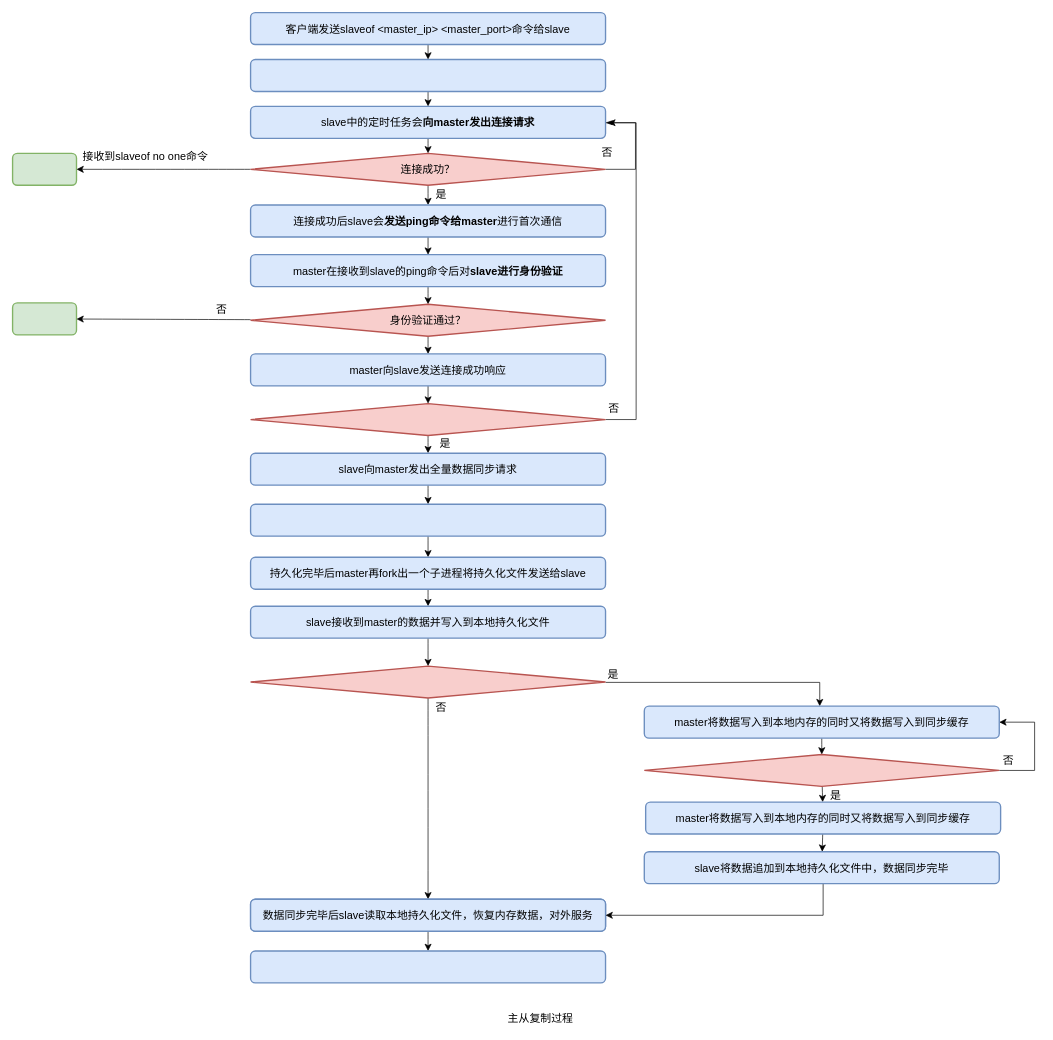
This 1053x1040 diagram has some shape labels left out. Each missing label, with the box of its shape:
master在接收到数据同步请求后fork出一个子进程进行数据持久化: (250, 503, 606, 537)
master的持久化文件数据发送完毕？: (643, 753, 1000, 787)
slave接收到slaveof命令后 将master地址保存到本地: (250, 58, 606, 92)
slave接收到了master响应？: (250, 403, 606, 436)
停止连接: (12, 152, 77, 186)
对外服务中master持续接收到写操作，会以增量方式发送给slave: (250, 950, 606, 983)
拒绝连接: (12, 302, 77, 335)
数据同步过程中master主进程又有些操作发生？: (250, 665, 606, 698)
